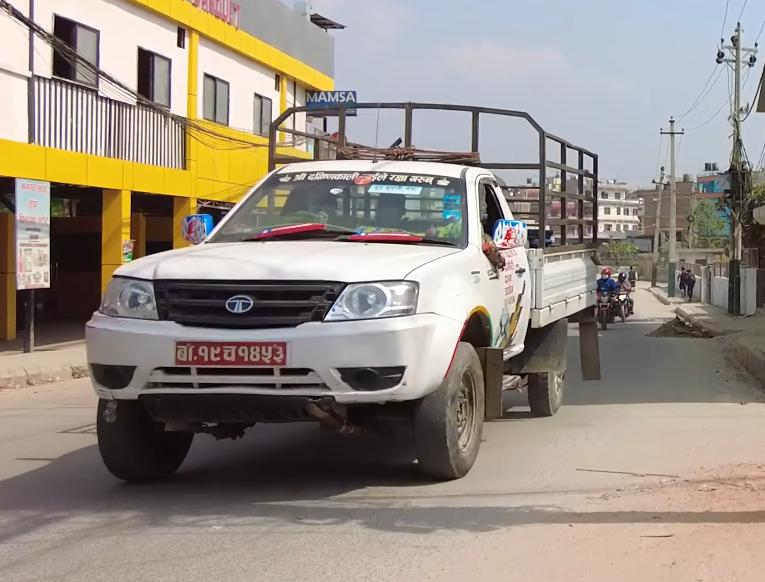bike: (593, 254, 638, 333)
transport_vehicle: (64, 82, 624, 495)
